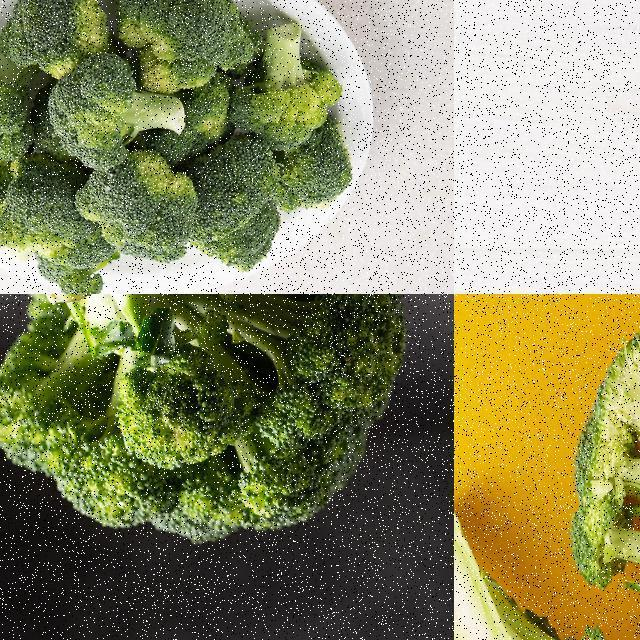broccoli: (0, 294, 409, 550), (0, 0, 344, 293), (454, 473, 639, 639), (565, 294, 639, 639)
